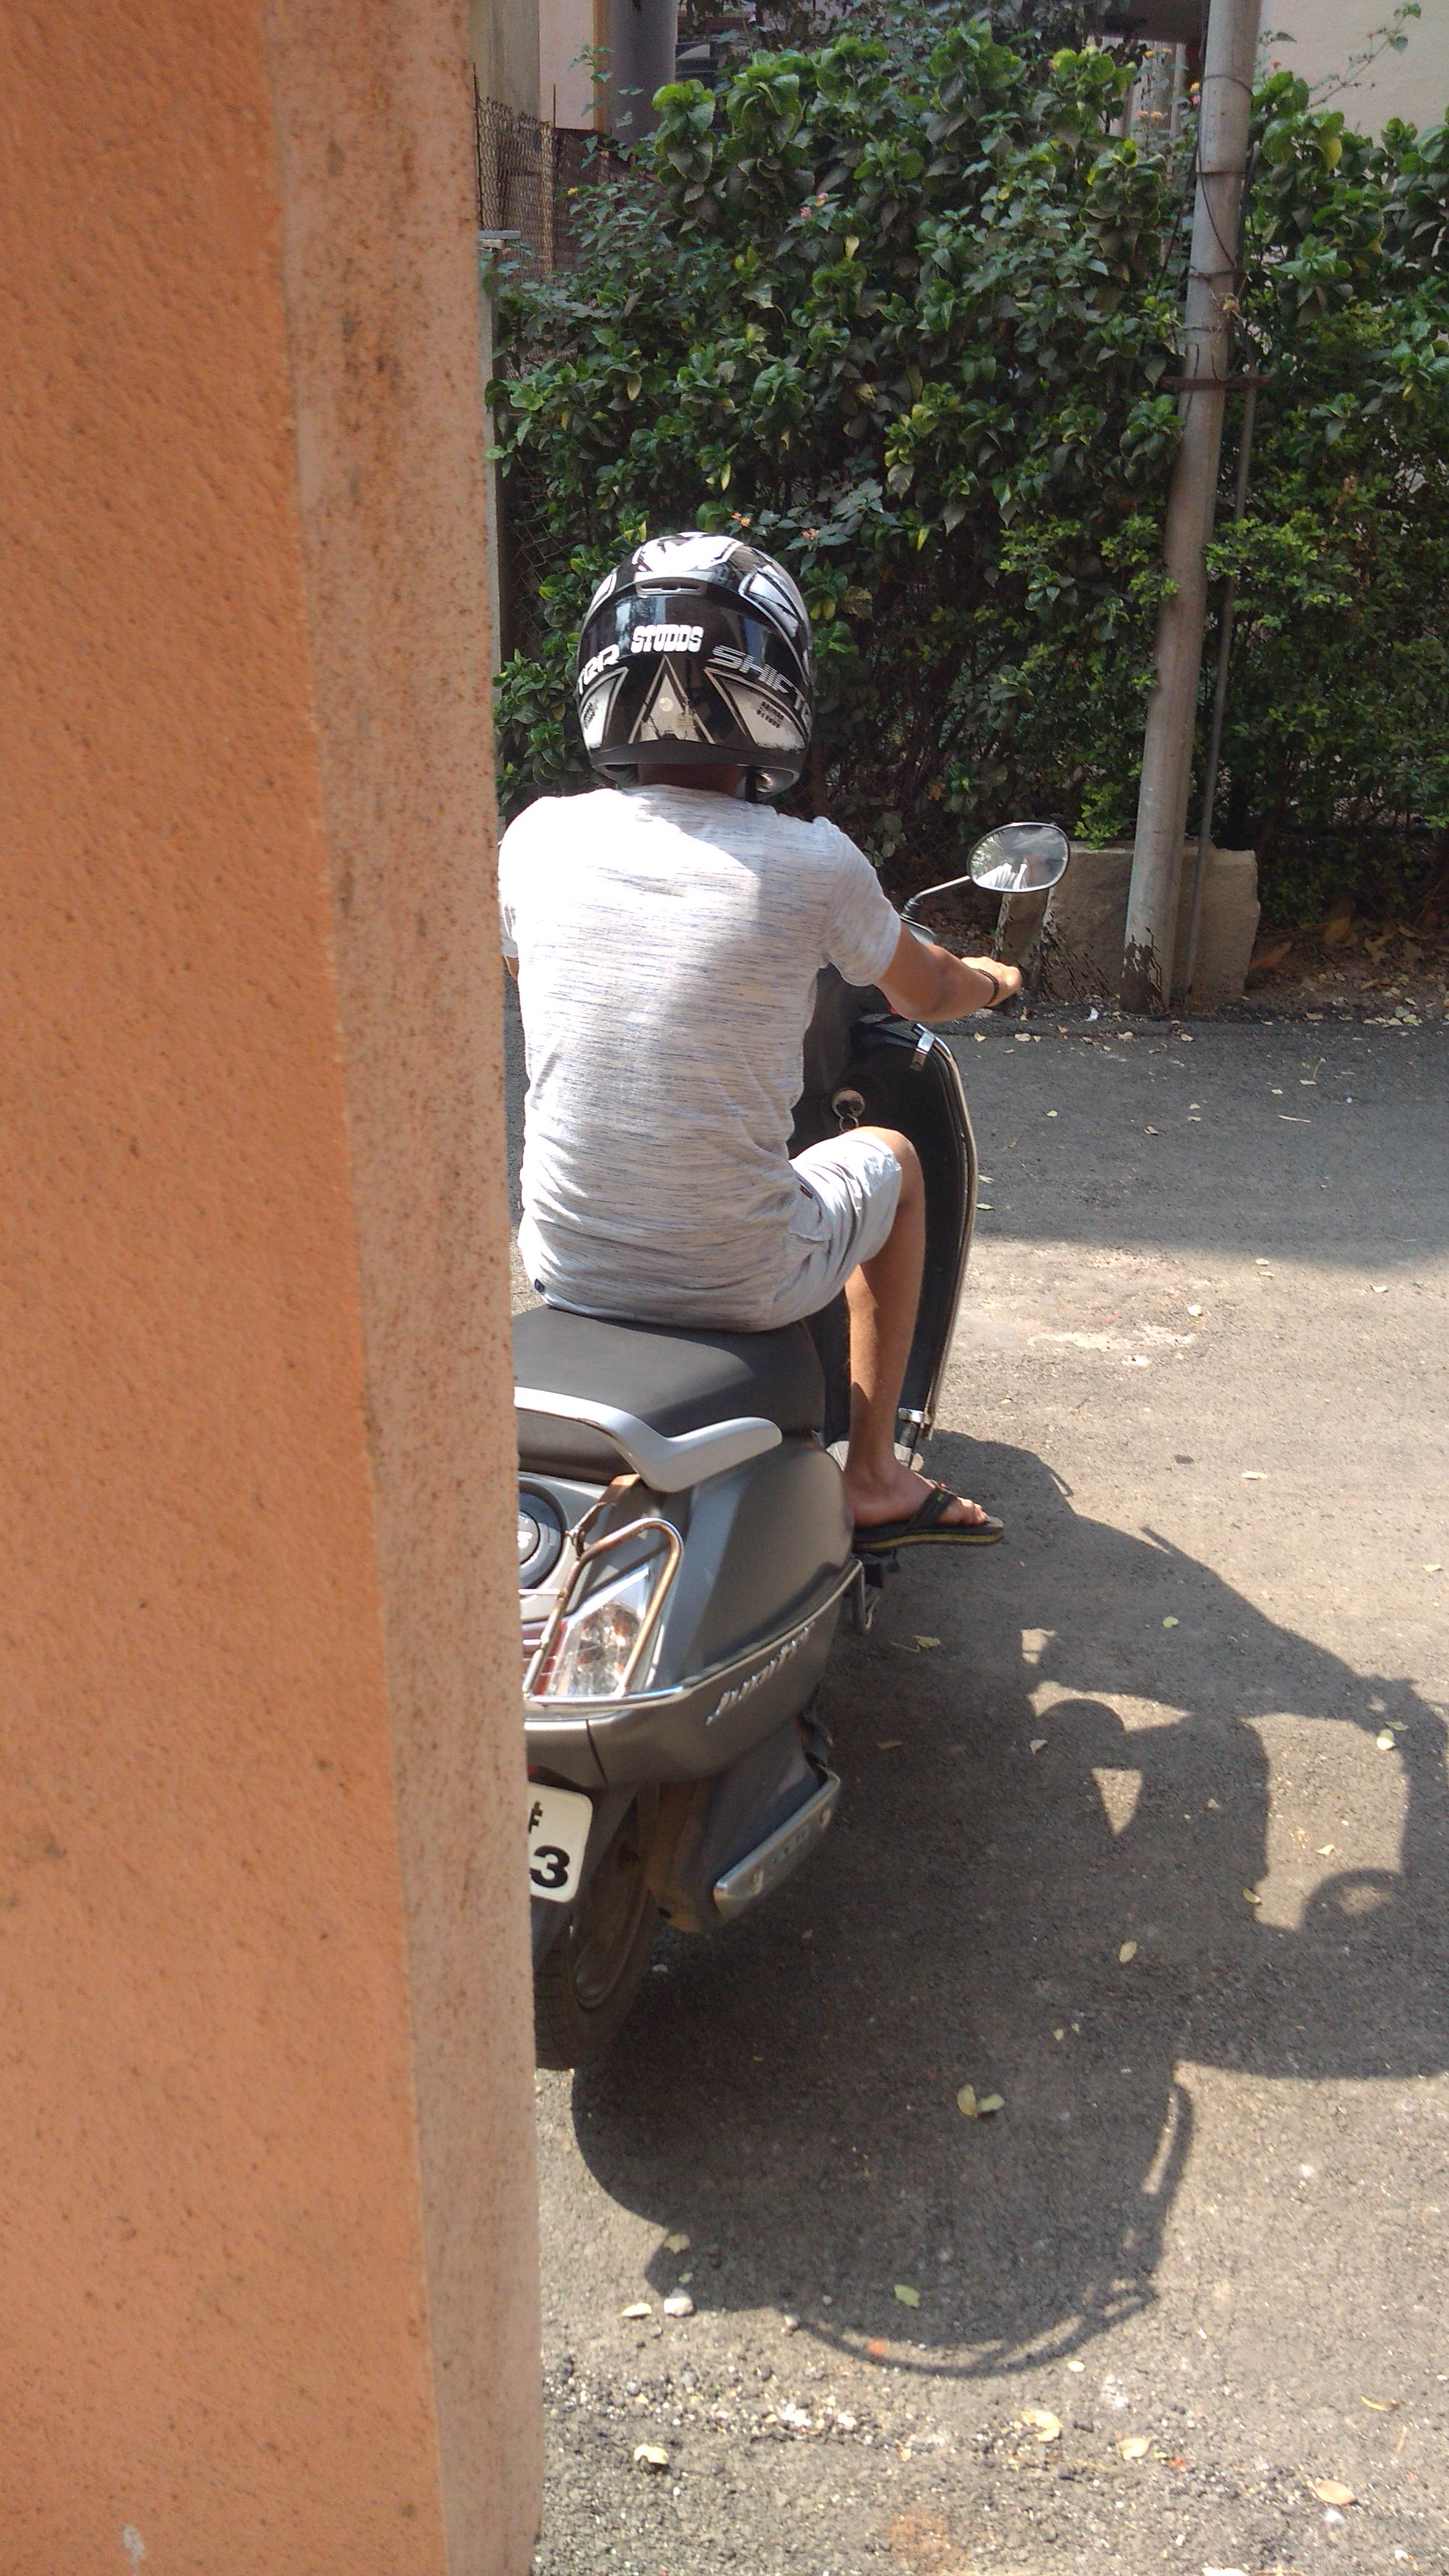helmet: (444, 529, 924, 1378)
